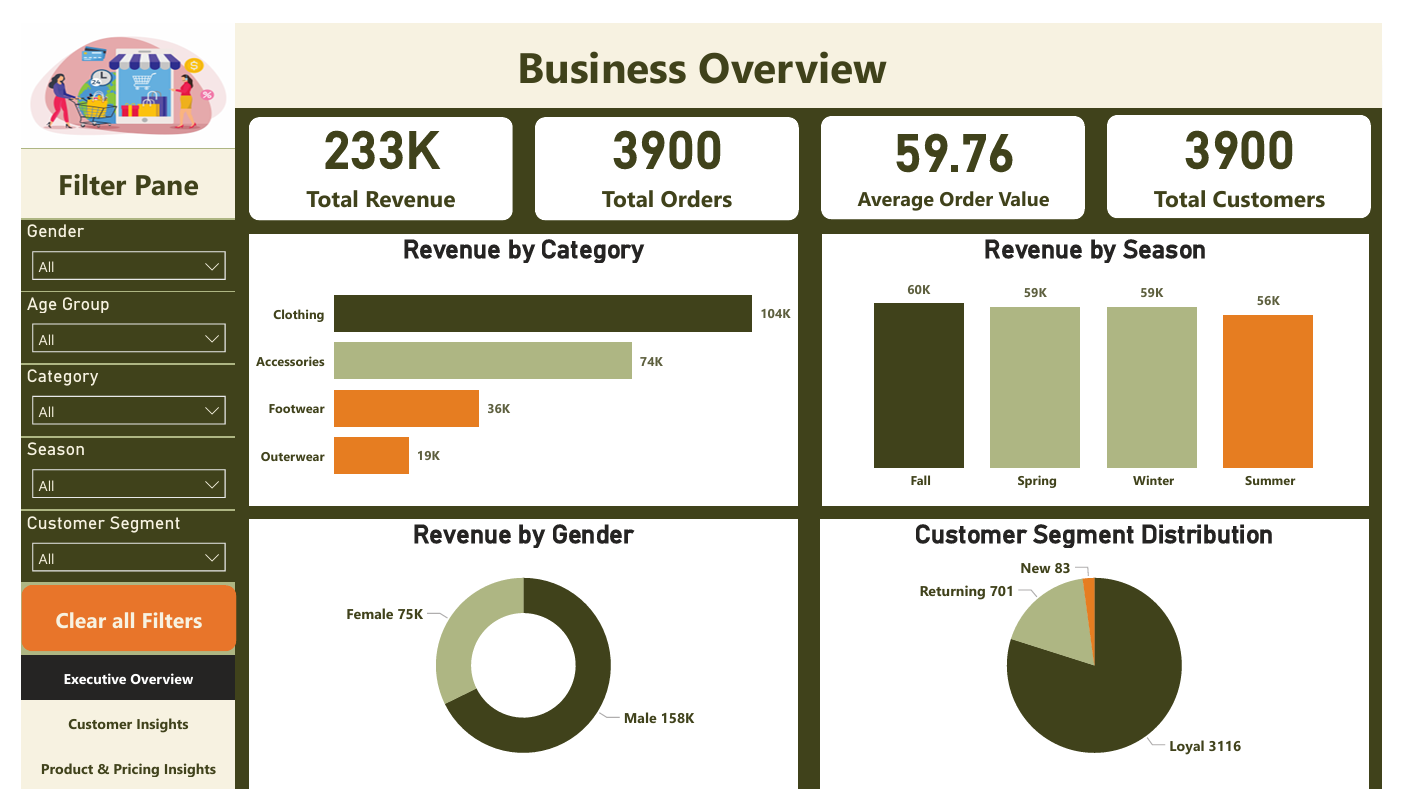

What the dashboard file says about the page in this screenshot:
{"tool":"powerbi","page":{"name":"Business Overview","canvas":[1280,720],"ordinal":0},"visuals":[{"type":"shape","box":[0,0,1279.5,78.7],"z":0},{"type":"clusteredBarChart","title":"Revenue by Category","fields":{"Y":["customer_shopping_behavior.total_revenue"],"Category":["customer_shopping_behavior.category"]},"box":[213.5,198.4,516.3,254.4],"z":1000},{"type":"shape","box":[213.5,87.8,248.3,96.9],"z":2000,"group":"g1"},{"type":"clusteredColumnChart","title":"Revenue by Season","fields":{"Y":["customer_shopping_behavior.total_revenue"],"Category":["customer_shopping_behavior.season"]},"box":[752.6,198.4,514.8,254.4],"z":2000},{"type":"shape","box":[0,0,201.4,719.2],"z":3000},{"type":"shape","box":[482.5,87.6,248.3,96.9],"z":3000,"group":"g2"},{"type":"group","id":"g1","title":"Group 1","box":[213.5,81.8,248.3,106],"z":4000},{"type":"shape","box":[751.8,87.5,248.3,96.9],"z":4000,"group":"g3"},{"type":"group","id":"g2","title":"Group 2","box":[482.5,81.8,248.3,106],"z":5000},{"type":"shape","box":[1020.6,85.7,248.3,96.9],"z":5000,"group":"g4"},{"type":"group","id":"g3","title":"Group 3","box":[751.8,78.5,248.4,105.9],"z":6000},{"type":"card","fields":{"Values":["customer_shopping_behavior.total_revenue"]},"box":[238,81.8,200,106],"z":6000,"group":"g1"},{"type":"card","fields":{"Values":["customer_shopping_behavior.total_orders"]},"box":[506.4,81.8,200.3,105.8],"z":7000,"group":"g2"},{"type":"group","id":"g4","title":"Group 4","box":[1020.6,81.8,248.3,106],"z":7000},{"type":"card","fields":{"Values":["customer_shopping_behavior.average_order_value"]},"box":[776.2,78.5,200.3,105.8],"z":8000,"group":"g3"},{"type":"donutChart","title":"Revenue by Gender","fields":{"Y":["customer_shopping_behavior.total_revenue"],"Category":["customer_shopping_behavior.gender"]},"box":[213.5,466.4,516.3,252.9],"z":8000},{"type":"card","fields":{"Values":["customer_shopping_behavior.total_customers"]},"box":[1045.1,81.8,200.3,105.8],"z":9000,"group":"g4"},{"type":"pieChart","title":"Customer Segment Distribution","fields":{"Category":["customer_shopping_behavior.customer_segment"],"Y":["customer_shopping_behavior.total_customers"]},"box":[751,466.4,516.3,252.9],"z":9000},{"type":"image","box":[0,0,201.4,116.6],"z":10000},{"type":"slicer","title":"Gender","fields":{"Values":["customer_shopping_behavior.gender"]},"box":[0,185,202.2,66.1],"z":11000},{"type":"slicer","title":"Age Group","fields":{"Values":["customer_shopping_behavior.age_group"]},"box":[0,253,202.2,66.1],"z":12000},{"type":"slicer","title":"Category","fields":{"Values":["customer_shopping_behavior.category"]},"box":[0,321,202.2,66.1],"z":13000},{"type":"slicer","title":"Season","fields":{"Values":["customer_shopping_behavior.season"]},"box":[0,390,202.2,66.1],"z":14000},{"type":"slicer","title":"Customer Segment","fields":{"Values":["customer_shopping_behavior.customer_segment"]},"box":[0,459,202.2,66.1],"z":15000},{"type":"shape","box":[0,117.7,201.4,64.1],"z":16000},{"type":"actionButton","box":[0,528,202.2,62.4],"z":17000},{"type":"pageNavigator","box":[0,593.6,201.4,126.8],"z":18000}]}

Visuals, with their boxes in screenshot pixels (x1, y1, x2, y2), scaled from the page's 1280x720 canvas onto the 1405x812 screenshot:
shape: crop(0, 0, 1404, 89)
"Revenue by Category" clusteredBarChart: crop(234, 224, 801, 511)
shape: crop(234, 99, 507, 208)
"Revenue by Season" clusteredColumnChart: crop(826, 224, 1391, 511)
shape: crop(0, 0, 221, 811)
shape: crop(530, 99, 802, 208)
"Group 1" group: crop(234, 92, 507, 212)
shape: crop(825, 99, 1098, 208)
"Group 2" group: crop(530, 92, 802, 212)
shape: crop(1120, 97, 1393, 206)
"Group 3" group: crop(825, 89, 1098, 208)
card - customer_shopping_behavior.total_revenue: crop(261, 92, 481, 212)
card - customer_shopping_behavior.total_orders: crop(556, 92, 776, 212)
"Group 4" group: crop(1120, 92, 1393, 212)
card - customer_shopping_behavior.average_order_value: crop(852, 89, 1072, 208)
"Revenue by Gender" donutChart: crop(234, 526, 801, 811)
card - customer_shopping_behavior.total_customers: crop(1147, 92, 1367, 212)
"Customer Segment Distribution" pieChart: crop(824, 526, 1391, 811)
image: crop(0, 0, 221, 131)
"Gender" slicer: crop(0, 209, 222, 283)
"Age Group" slicer: crop(0, 285, 222, 360)
"Category" slicer: crop(0, 362, 222, 437)
"Season" slicer: crop(0, 440, 222, 514)
"Customer Segment" slicer: crop(0, 518, 222, 592)
shape: crop(0, 133, 221, 205)
actionButton: crop(0, 595, 222, 666)
pageNavigator: crop(0, 669, 221, 811)
